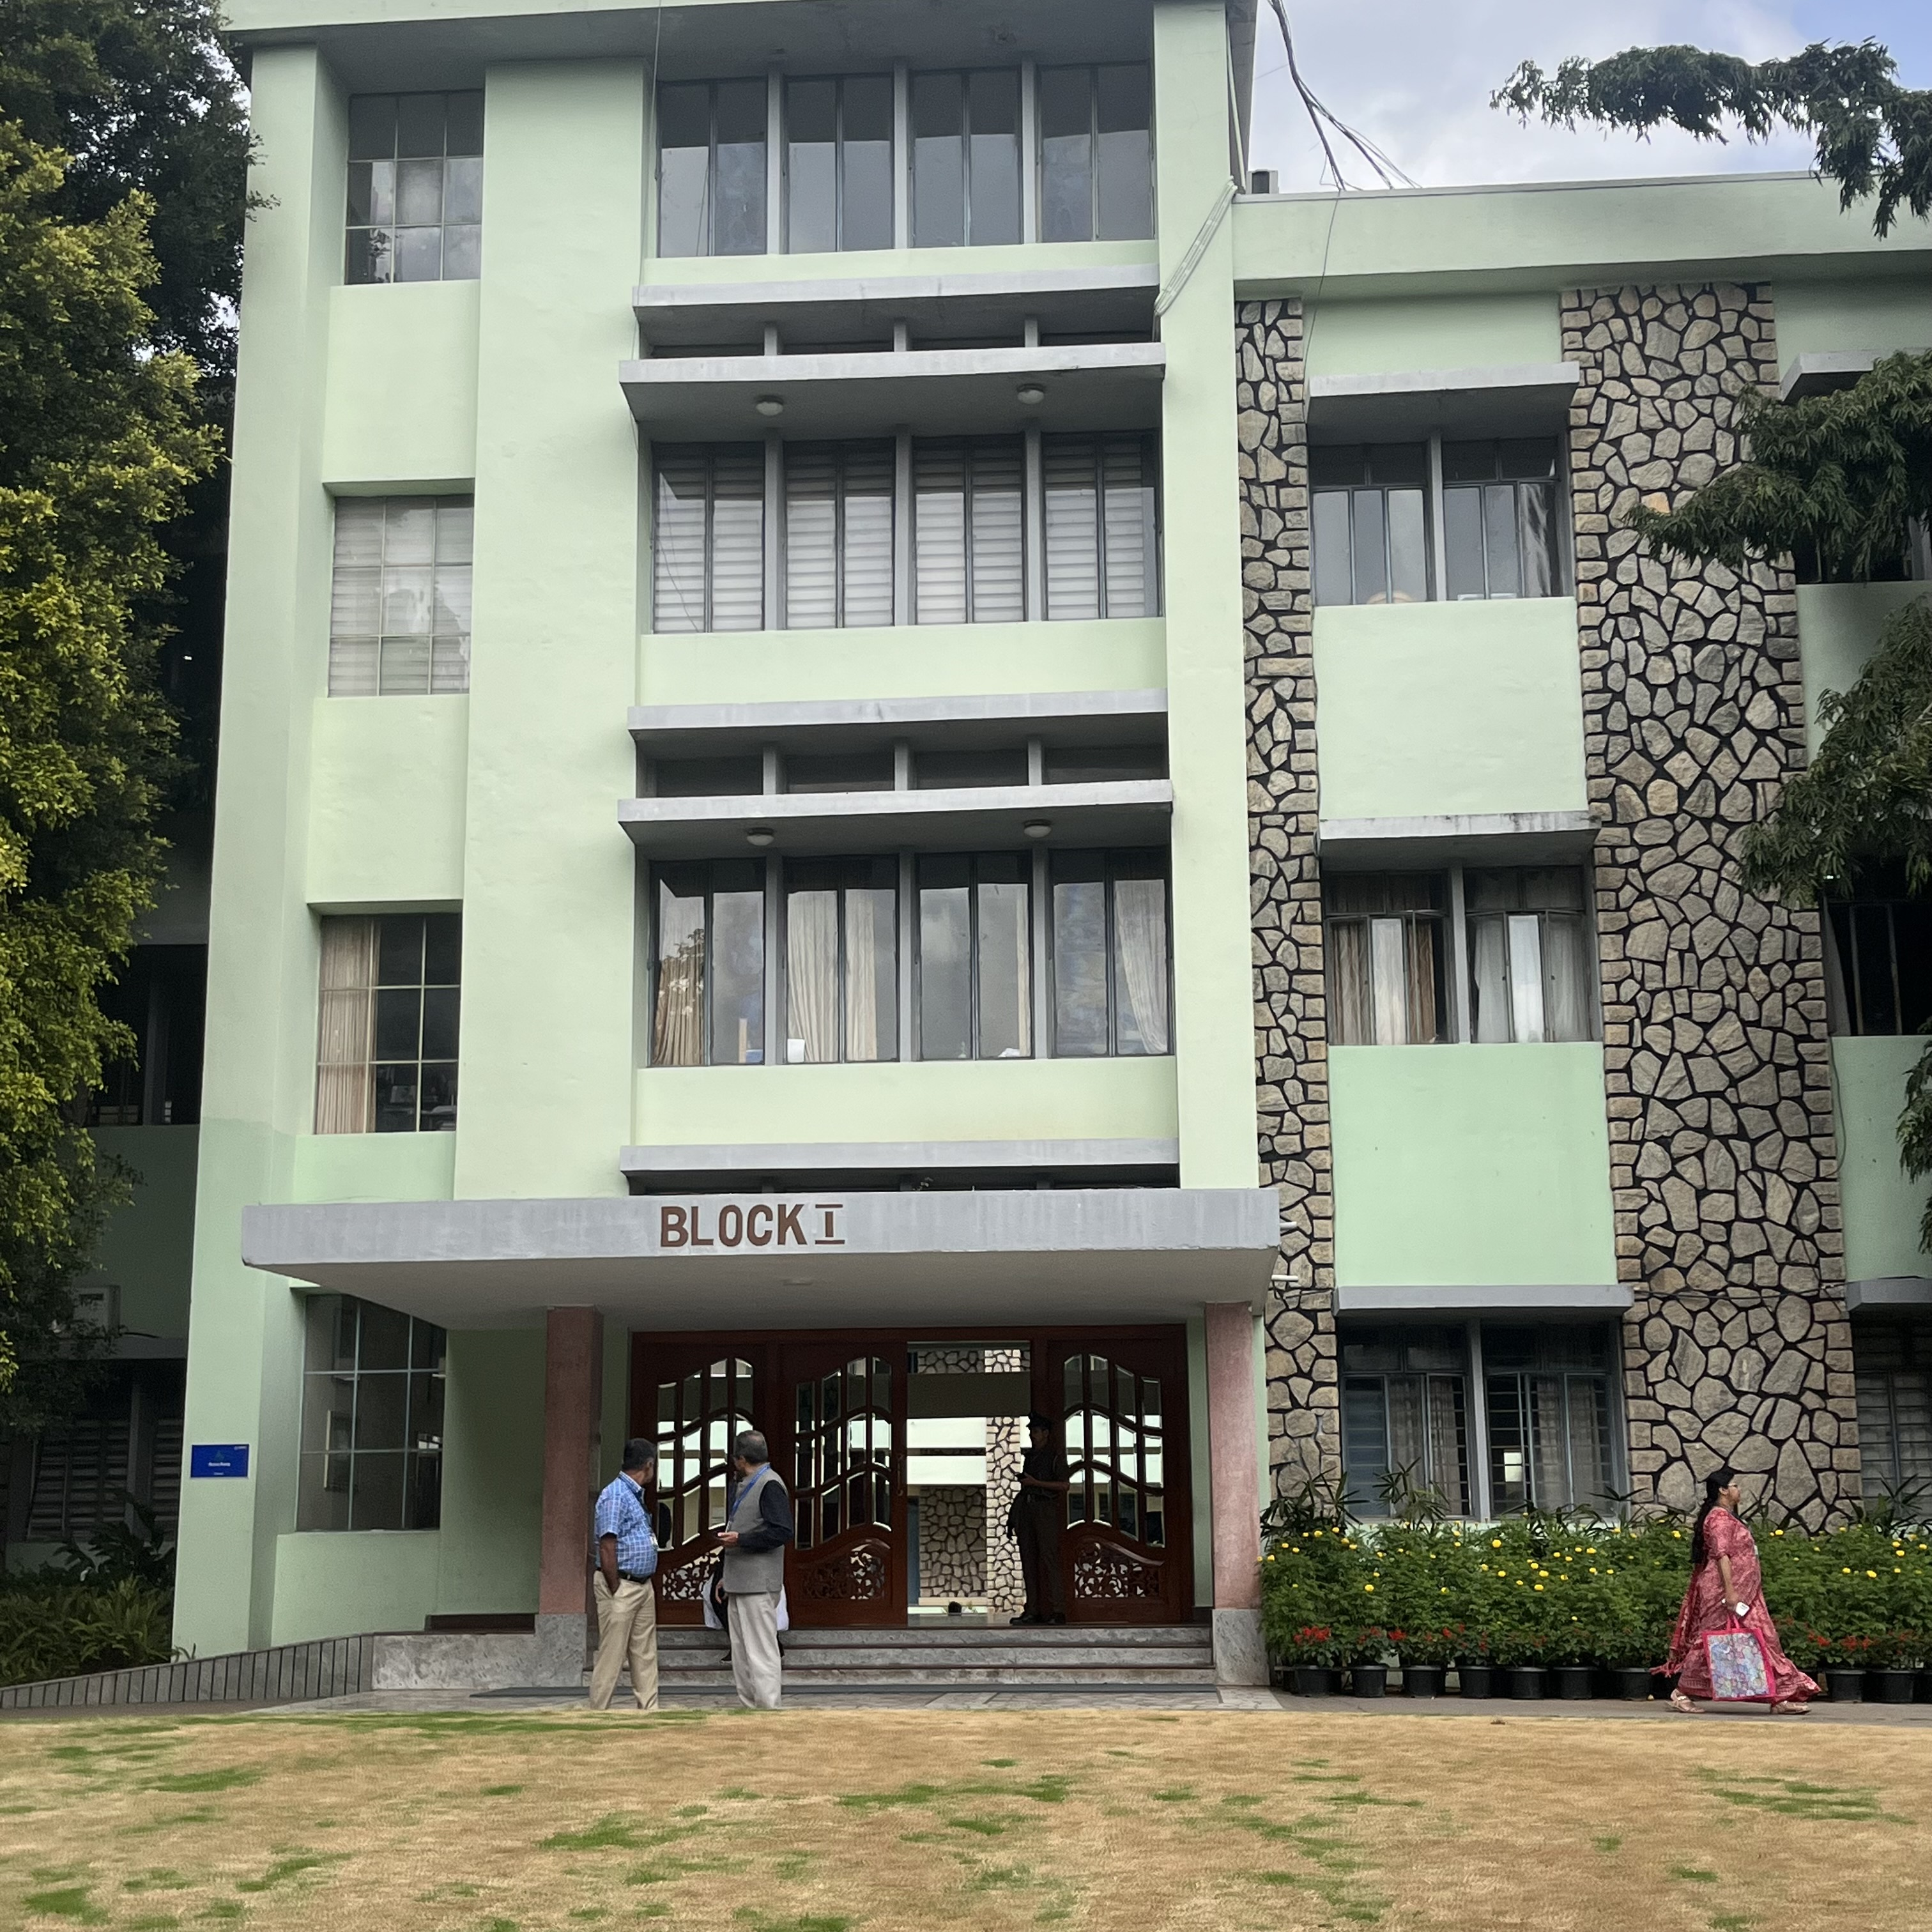Block 1: (223, 5, 1842, 1527)
